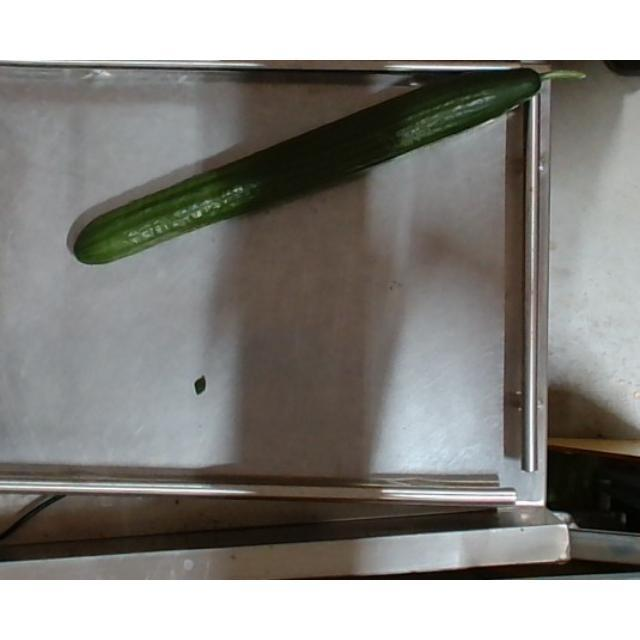cucumber: (74, 61, 586, 266)
